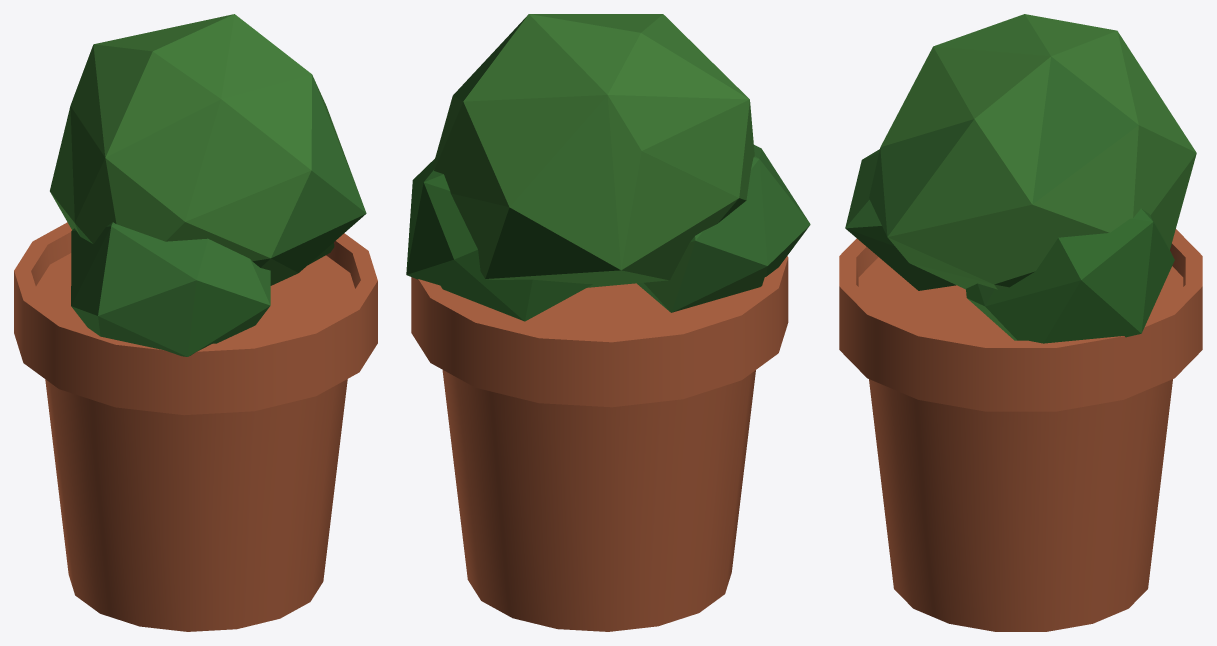
File: maceta.glb
3 renders of one model, left to right at view 1: azimuth 30°, elevation 25°; view 2: azimuth 150°, elevation 25°; view 3: azimuth 270°, elevation 25°, orthographic. The views are drawn at different scales.
Visible parts, largest first — view 1: maceta_cuerpo, maceta_planta; view 2: maceta_cuerpo, maceta_planta; view 3: maceta_cuerpo, maceta_planta.
Boxes of the visible parts, <box> form: maceta_cuerpo: <box>14,222,377,631</box>; maceta_planta: <box>50,14,366,356</box>; maceta_cuerpo: <box>411,256,788,631</box>; maceta_planta: <box>406,14,810,321</box>; maceta_cuerpo: <box>839,229,1202,631</box>; maceta_planta: <box>845,14,1196,343</box>.
Size of what is drawn, in the model's own units: 0.3 by 0.5 by 0.3.
